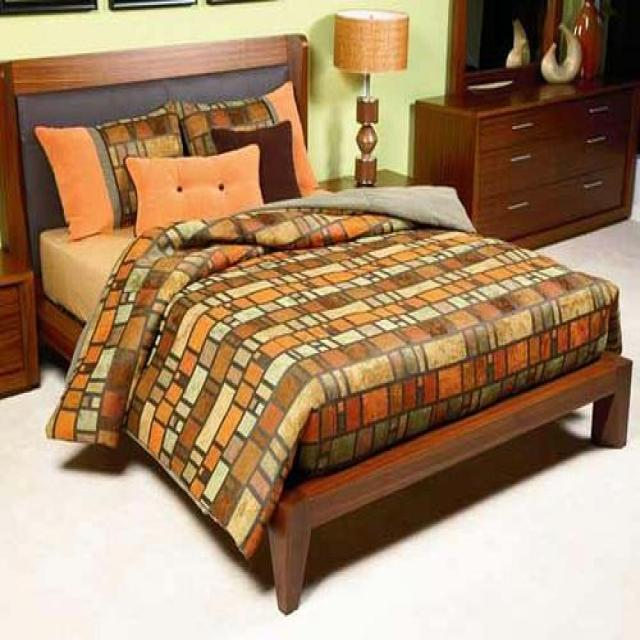bed: (1, 32, 632, 615)
